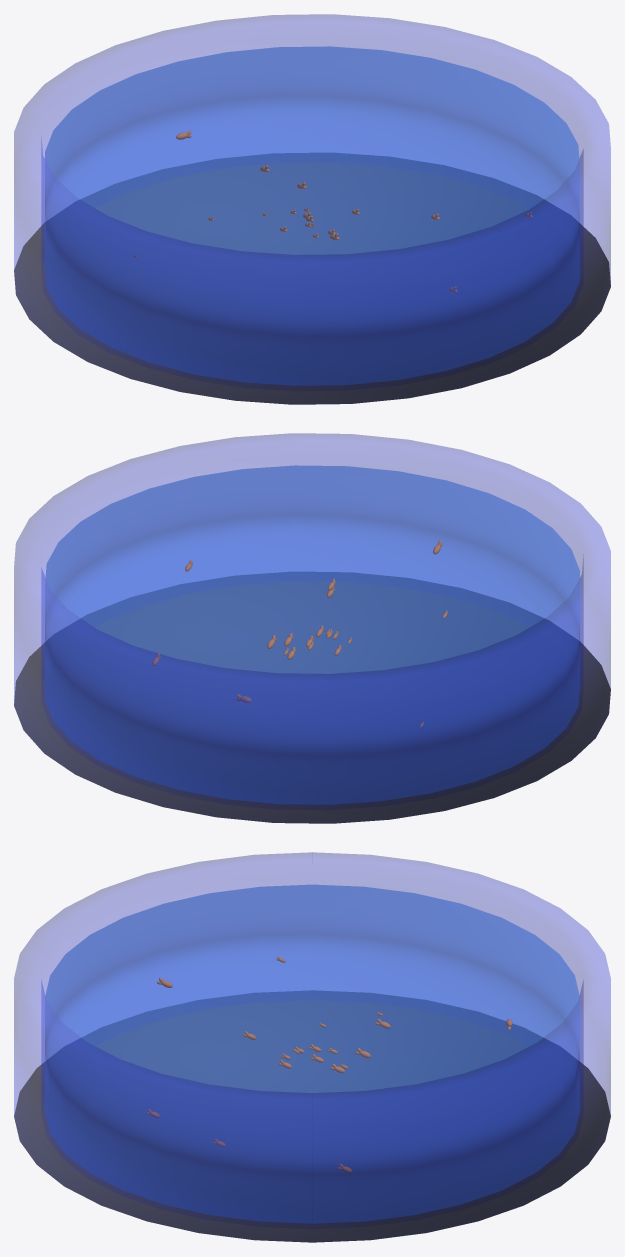
File: FishCatch.fbx
3 views of the same model, one above another, from view 1: azimuth 30°, elevation 25°; view 2: azimuth 150°, elevation 25°; view 3: azimuth 270°, elevation 25° (orthographic).
Visible parts, largest first — view 1: Circle, Cylinder; view 2: Circle, Cylinder; view 3: Circle, Cylinder.
Part boxes in pixels (x1,y1,x2,y2): Circle: (14, 14, 610, 404); Cylinder: (45, 46, 579, 385); Circle: (14, 433, 610, 823); Cylinder: (45, 465, 579, 804); Circle: (14, 852, 610, 1242); Cylinder: (45, 884, 579, 1223).
Size of the model in its own units: 200 by 51.03 by 200.
